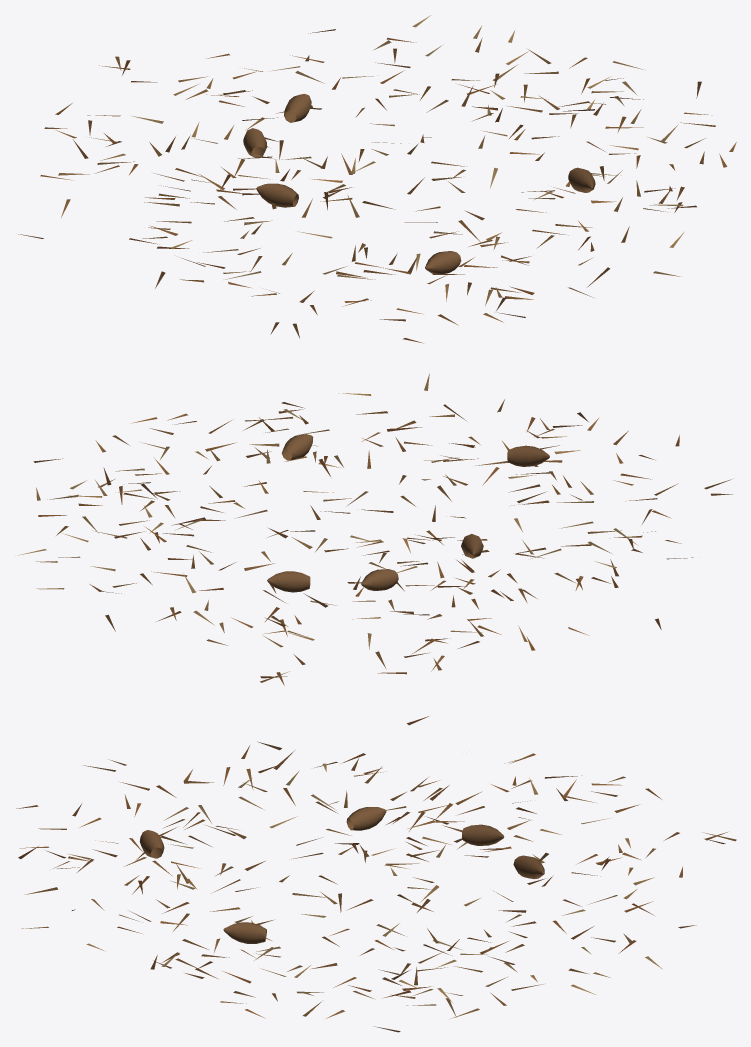
The model's file is litter-conifer-a.lod1.glb.
3 views of the same model, one above another, from view 1: azimuth 30°, elevation 25°; view 2: azimuth 150°, elevation 25°; view 3: azimuth 270°, elevation 25° (orthographic). The views are drawn at different scales.
Bounding box in the file's own units: 1.96 × 0.0856 × 1.88.
